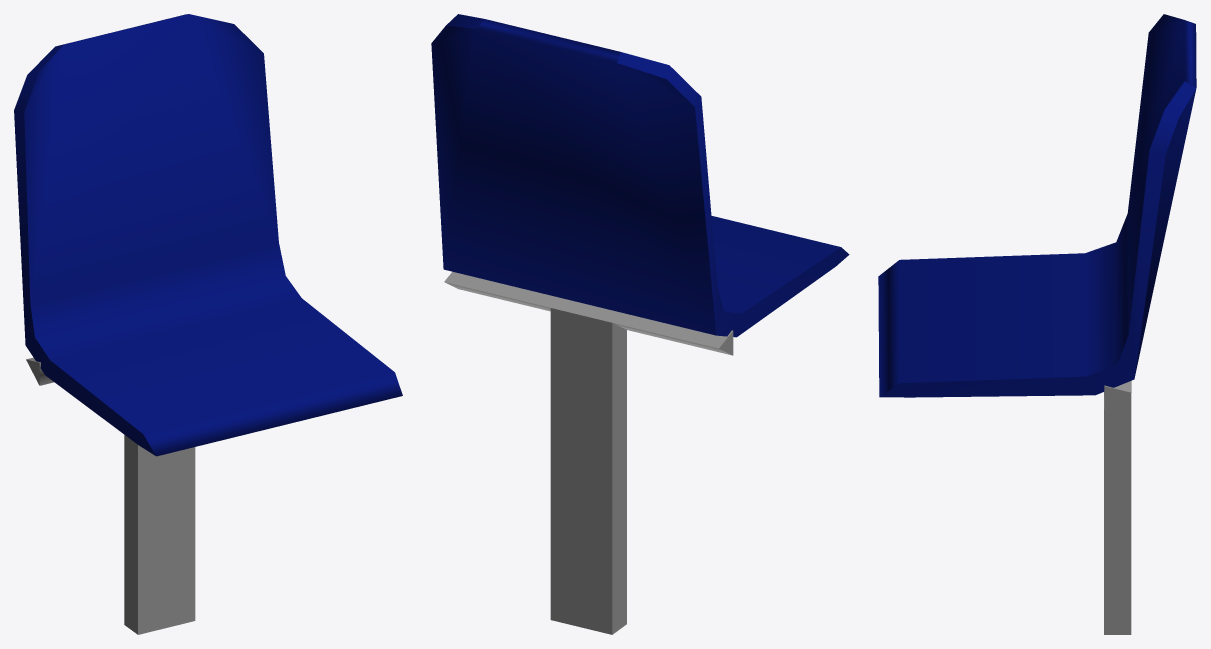
Rendered from sillas_banquillo_arreglo.FBX.
3 renders of one model, left to right at view 1: azimuth 30°, elevation 25°; view 2: azimuth 150°, elevation 25°; view 3: azimuth 270°, elevation 25°, orthographic. The views are drawn at different scales.
Visible parts, largest first — view 1: Silla_LOD0_007; view 2: Silla_LOD0_007; view 3: Silla_LOD0_007.
Part boxes in pixels (left/top/right/bottom): Silla_LOD0_007: left=14, top=14, right=402, bottom=634; Silla_LOD0_007: left=431, top=14, right=849, bottom=634; Silla_LOD0_007: left=878, top=14, right=1196, bottom=634.
Bounding box in the file's own units: 51.55 × 110 × 55.62.
